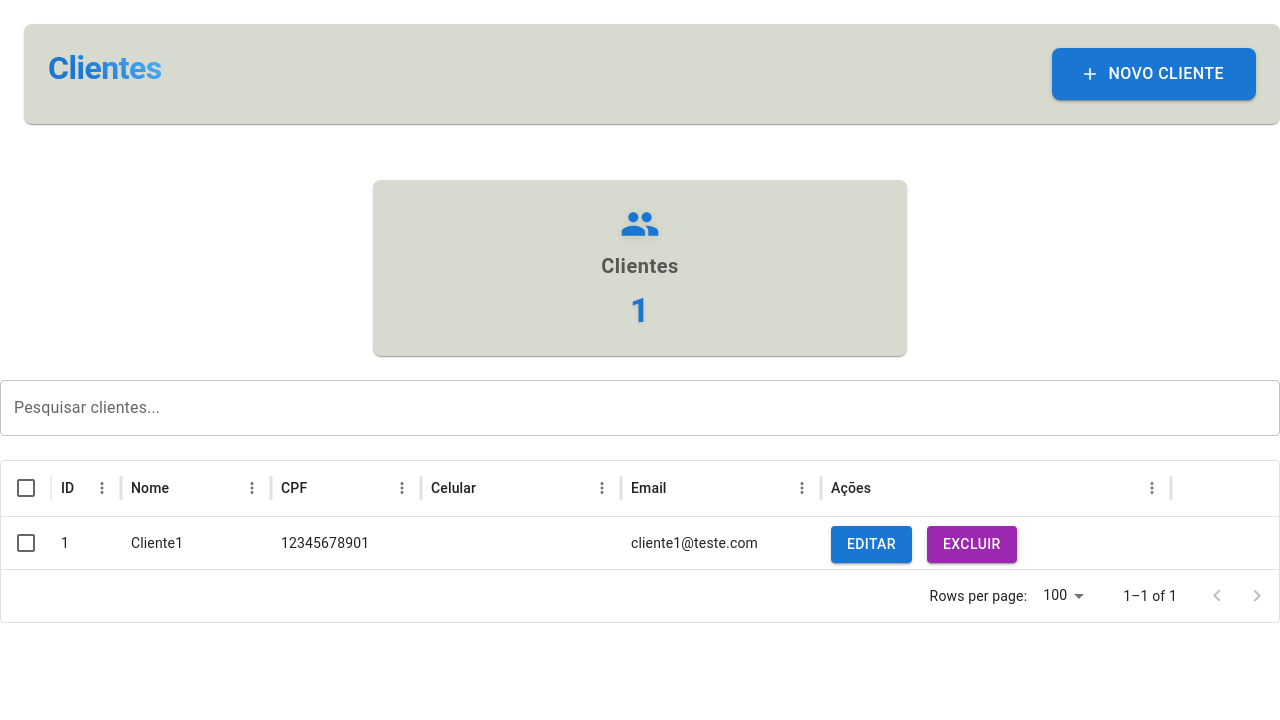
Test: Componente Cliente › Exclui cliente com confirmação
Check: the table is shown, box [1,461,1279,569]
Click the button "Excluir".
click(972, 544)  # box [927,526,1017,562]
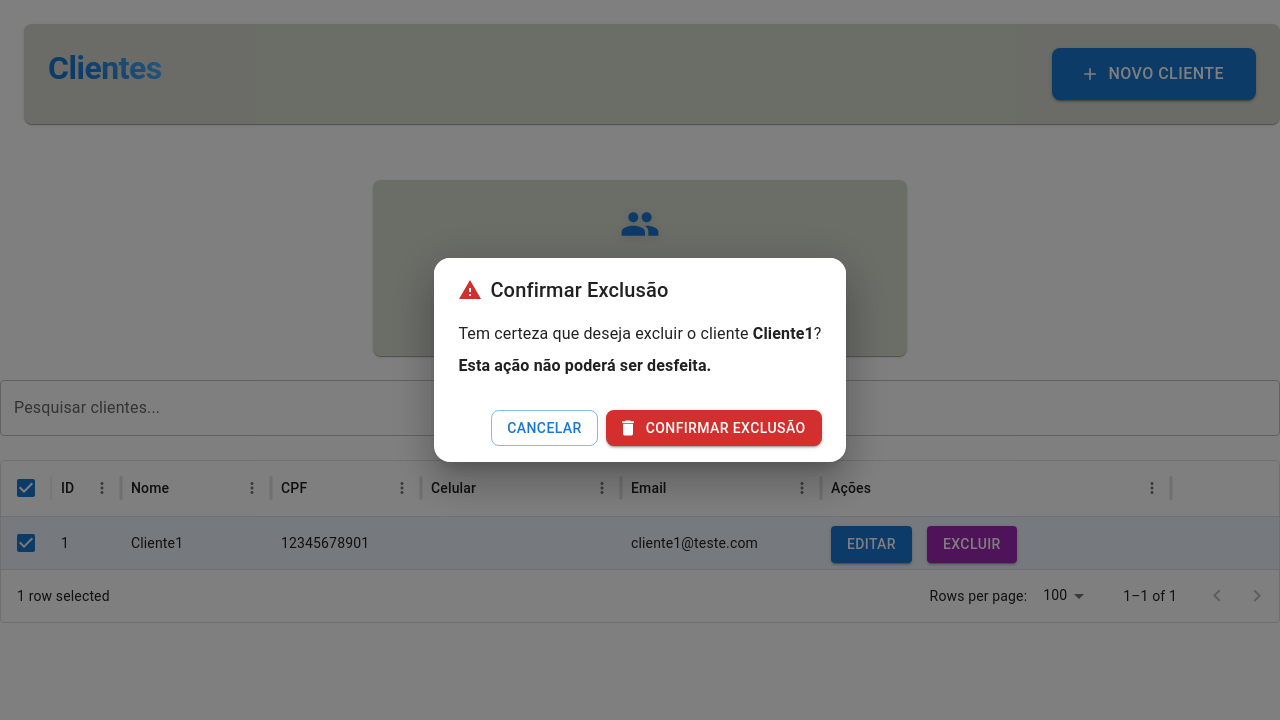
Check: the dialog shows "Confirmar Exclusão", box [490,278,669,302]
Check: the dialog shows "Cliente1", box [753,324,814,343]
